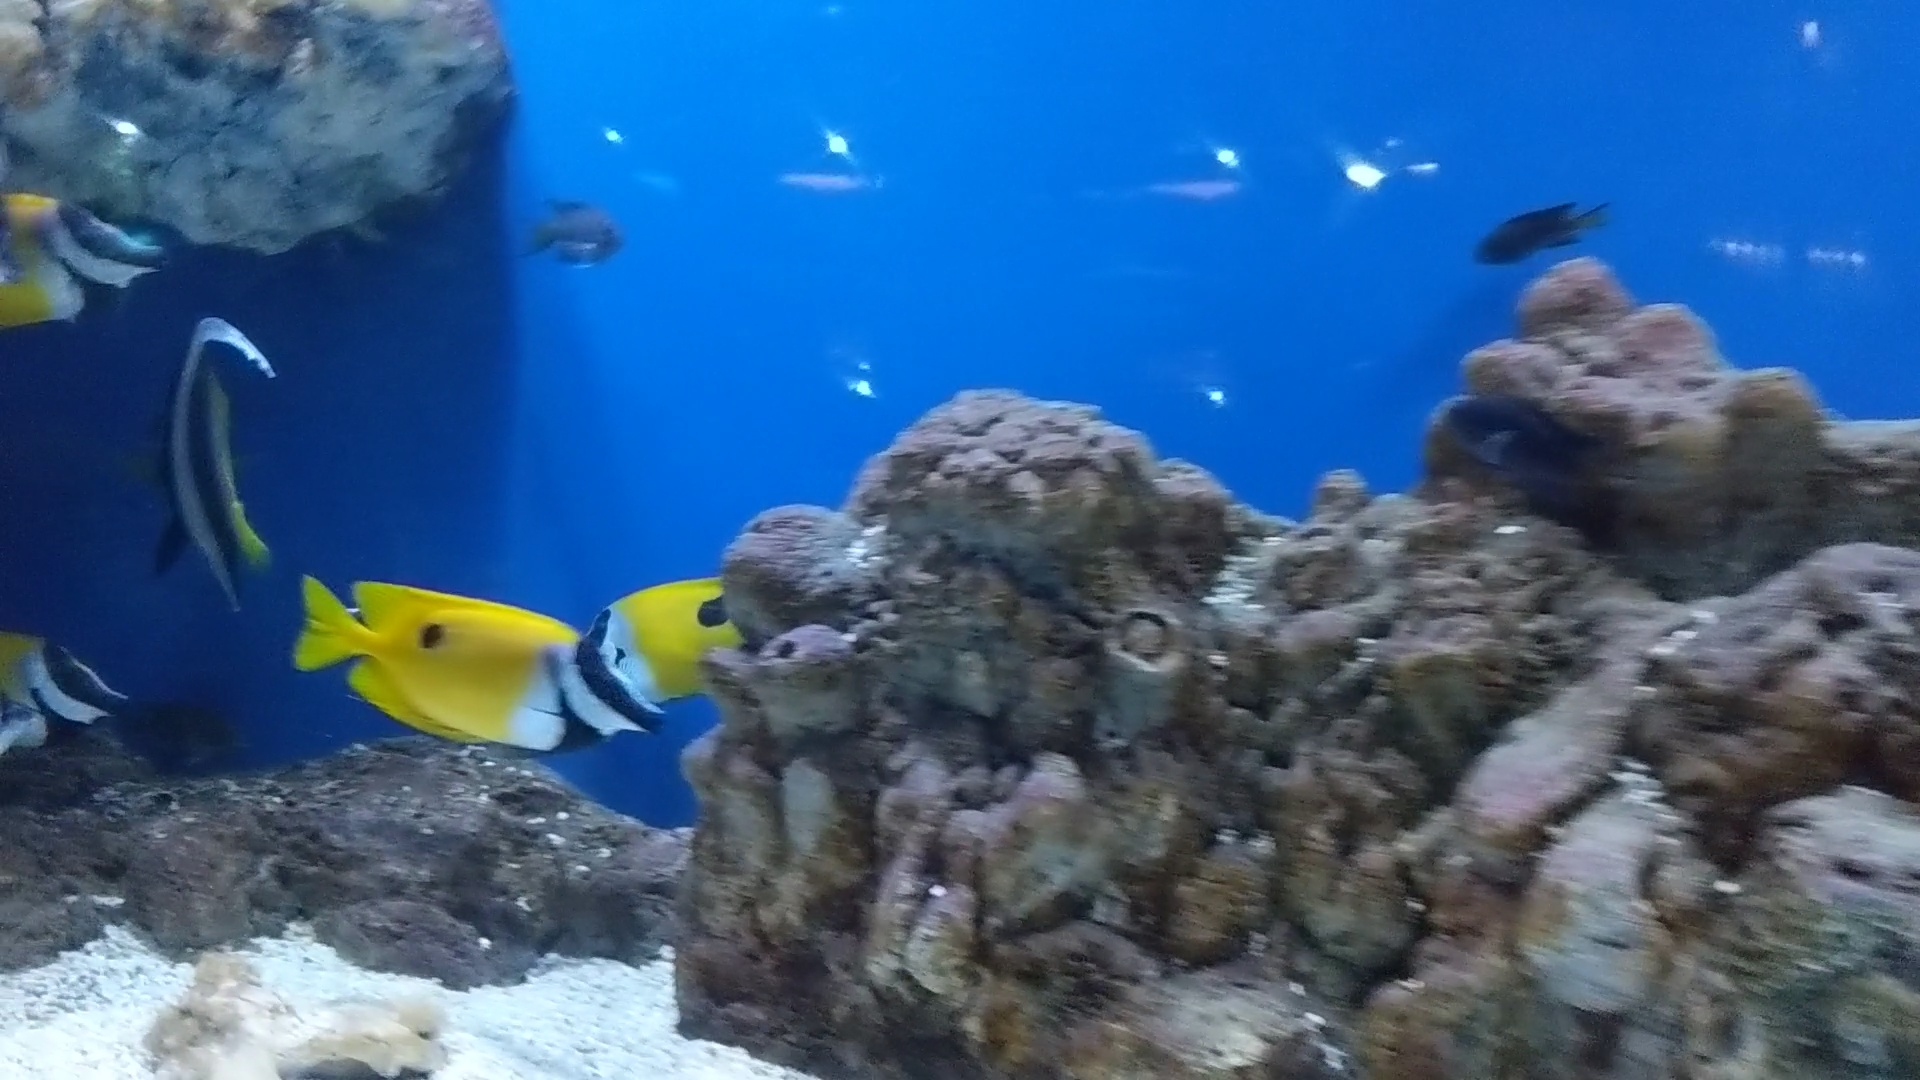moorfish: (138, 286, 293, 626)
rabbitfish: (278, 526, 657, 777), (556, 553, 738, 731)
